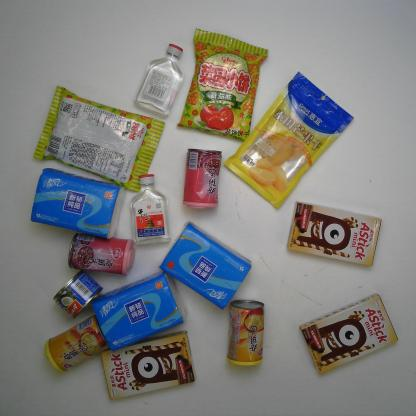Alcohol: (134, 41, 186, 119), (128, 172, 172, 247)
Canned Food: (43, 313, 112, 376), (66, 231, 136, 278), (224, 297, 267, 368), (50, 266, 105, 321), (180, 146, 223, 211)
Dessert: (298, 292, 400, 377), (98, 329, 199, 401), (284, 200, 384, 268)
Dried Fruit: (223, 69, 356, 213)
Puffed Food: (32, 84, 166, 193), (175, 27, 269, 143)
Tissue: (89, 267, 191, 356), (157, 219, 253, 312), (28, 167, 128, 241)
